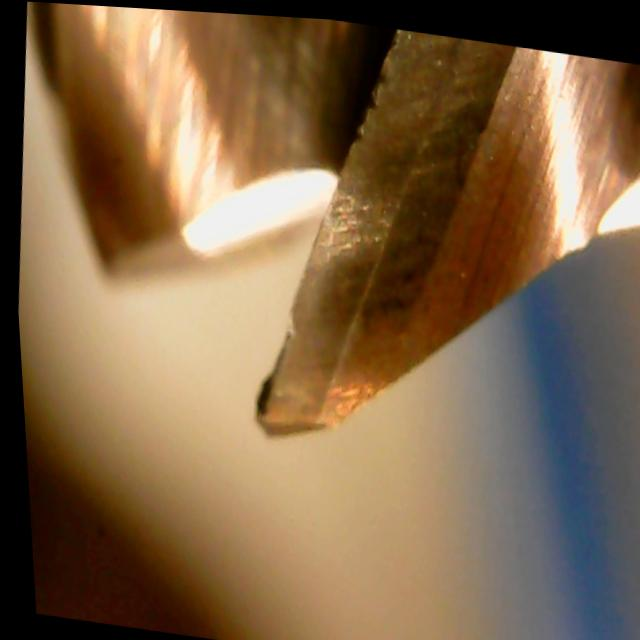Tool-wear-class-1: (222, 237, 404, 457)
